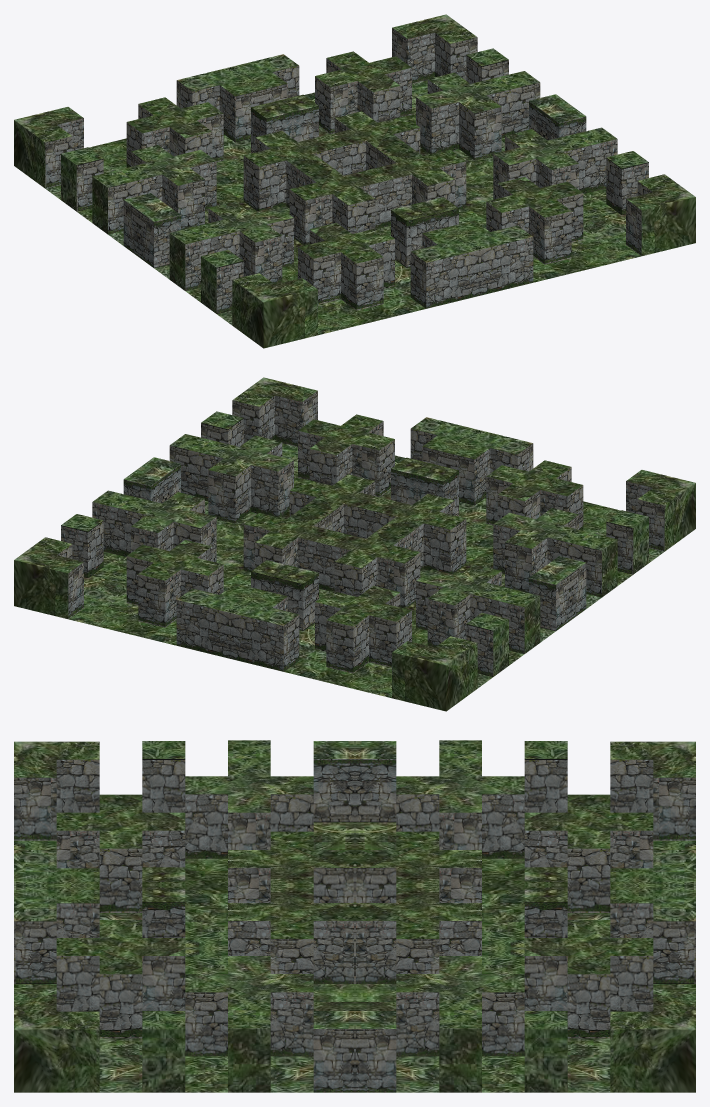
Rendered from mazewall_v1.fbx.
3 renders of one model, top to bottom at view 1: azimuth 30°, elevation 25°; view 2: azimuth 150°, elevation 25°; view 3: azimuth 270°, elevation 25°, orthographic. The views are drawn at different scales.
Parts seen in each view (by area): view 1: Plane; view 2: Plane; view 3: Plane.
Part boxes in pixels (x1,y1,x2,y2): Plane: [14, 14, 695, 348]; Plane: [14, 377, 695, 711]; Plane: [14, 740, 695, 1092].
Bounding box in the file's own units: 1658 × 172 × 1658.
Materials: 1 (1 with a texture image).
